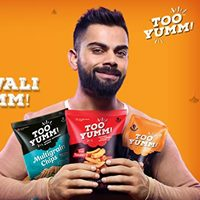plastic: (12, 122, 173, 170)
tooyumm: (145, 8, 196, 43), (29, 122, 61, 148), (81, 119, 115, 142), (127, 133, 162, 146)
wrapper: (69, 110, 126, 168), (30, 109, 70, 179), (127, 114, 154, 175)
